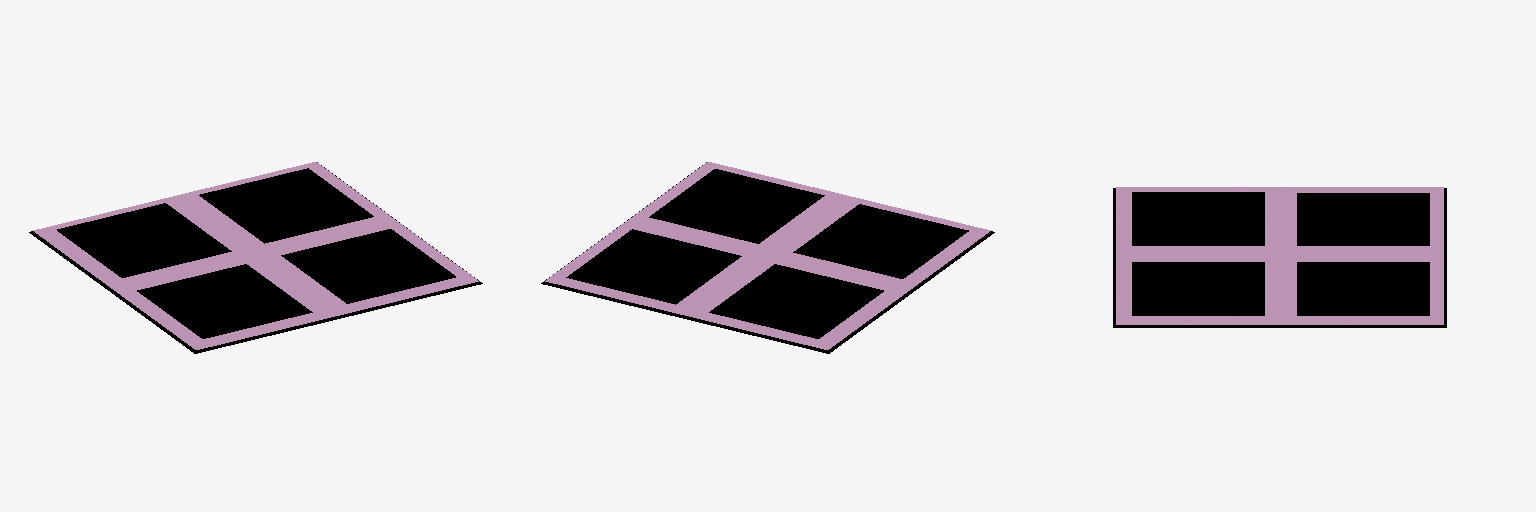
The picture shows the model from 3 angles: view 1: azimuth 30°, elevation 25°; view 2: azimuth 150°, elevation 25°; view 3: azimuth 270°, elevation 25°; orthographic projection.
Parts seen in each view (by area): view 1: pPlane1, pPlane15, pPlane13, pPlane14, pPlane16, pPlane6; view 2: pPlane1, pPlane14, pPlane15, pPlane13, pPlane16, pPlane6; view 3: pPlane1, pPlane13, pPlane14, pPlane15, pPlane16, pPlane6.
Part boxes in pixels (left/top/right/bottom): pPlane1: left=33, top=162, right=478, bottom=349; pPlane15: left=199, top=168, right=373, bottom=243; pPlane13: left=137, top=264, right=312, bottom=338; pPlane14: left=281, top=229, right=455, bottom=303; pPlane16: left=57, top=203, right=231, bottom=277; pPlane6: left=29, top=162, right=482, bottom=353; pPlane1: left=545, top=162, right=990, bottom=349; pPlane14: left=649, top=169, right=824, bottom=243; pPlane15: left=566, top=229, right=741, bottom=304; pPlane13: left=793, top=204, right=968, bottom=278; pPlane16: left=709, top=264, right=883, bottom=338; pPlane6: left=541, top=162, right=994, bottom=353; pPlane1: left=1116, top=187, right=1443, bottom=324; pPlane13: left=1132, top=192, right=1264, bottom=245; pPlane14: left=1132, top=262, right=1264, bottom=315; pPlane15: left=1297, top=262, right=1429, bottom=315; pPlane16: left=1297, top=193, right=1429, bottom=245; pPlane6: left=1113, top=188, right=1446, bottom=327.
Size of the model in its own units: 1.02 by 0.0135 by 1.02.
3 materials, 1 textured.